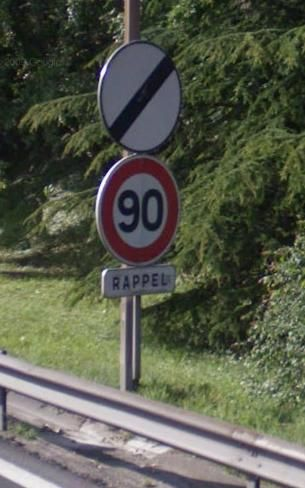Speed_limit_90km: (95, 155, 180, 264)
